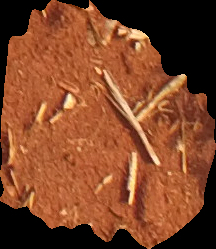soil: (3, 3, 210, 245)
